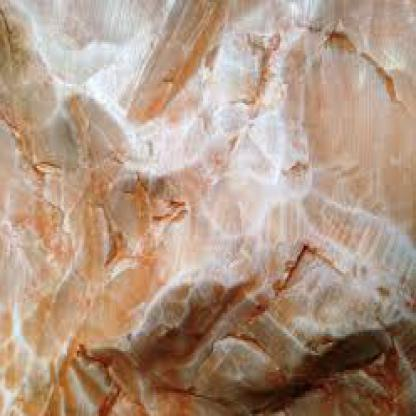Metamorphic_Marble: (0, 4, 415, 414)
